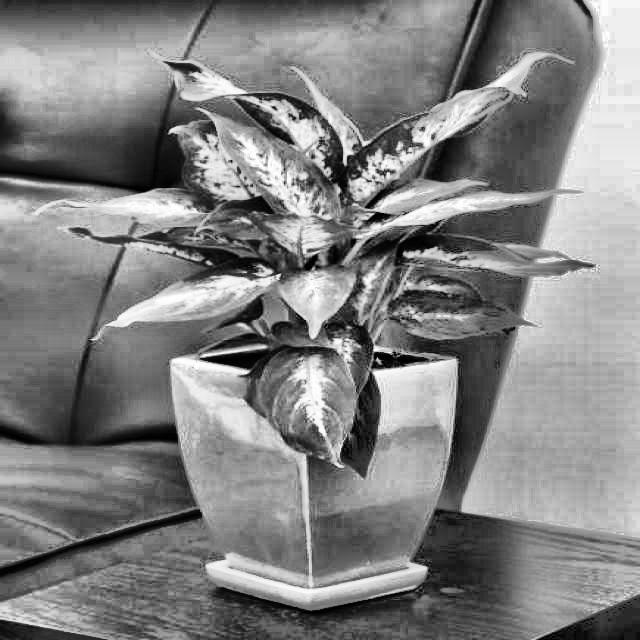plants: (148, 101, 472, 597)
